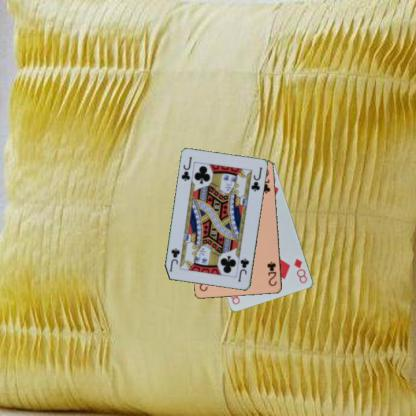2c: (265, 260, 278, 287)
8d: (291, 256, 309, 284)
Jc: (179, 154, 194, 183), (236, 256, 250, 283)
